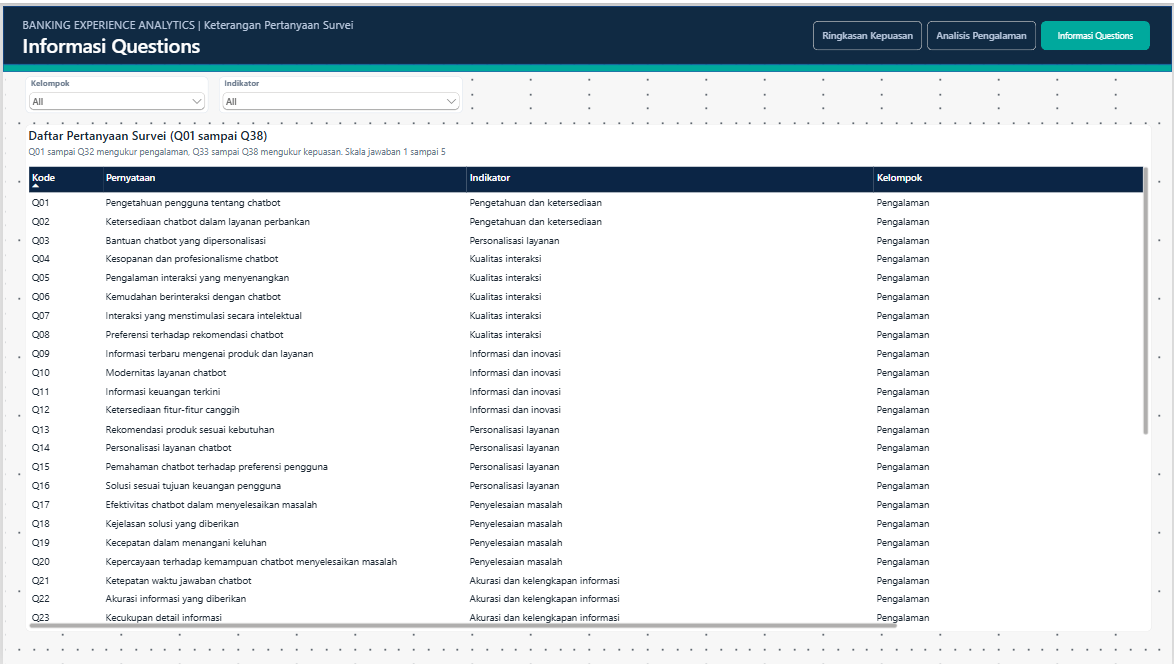

This screenshot's page, from the dashboard's own definition file:
{"tool":"powerbi","page":{"name":"Informasi Questions","canvas":[1920,1080],"ordinal":2},"visuals":[{"type":"shape","title":"hdr_latar","box":[0,0,1920,96],"z":0},{"type":"textbox","box":[32,16,1312,96],"z":1000},{"type":"shape","title":"hdr_garis","box":[0,96,1920,12],"z":2000},{"type":"pageNavigator","box":[1330,24,554,48],"z":3000},{"type":"slicer","fields":{"Values":["informasi_questions.Kelompok"]},"box":[36,116,300,60],"z":4000},{"type":"slicer","fields":{"Values":["informasi_questions.Indikator"]},"box":[354,116,400,60],"z":5000},{"type":"tableEx","title":"Daftar Pertanyaan Survei (Q01 sampai Q38)","fields":{"Values":["informasi_questions.Kode","informasi_questions.Pernyataan","informasi_questions.Indikator","informasi_questions.Kelompok"]},"box":[36,194,1848,832],"z":6000}]}

Visuals, with their boxes in screenshot pixels (x1, y1, x2, y2), scaled from the page's 1920x1080 canvas onto the 1174x664 screenshot:
"hdr_latar" shape: bbox(0, 0, 1173, 59)
textbox: bbox(20, 10, 822, 69)
"hdr_garis" shape: bbox(0, 59, 1173, 66)
pageNavigator: bbox(813, 15, 1152, 44)
slicer - informasi_questions.Kelompok: bbox(22, 71, 205, 108)
slicer - informasi_questions.Indikator: bbox(216, 71, 461, 108)
"Daftar Pertanyaan Survei (Q01 sampai Q38)" tableEx: bbox(22, 119, 1152, 631)
